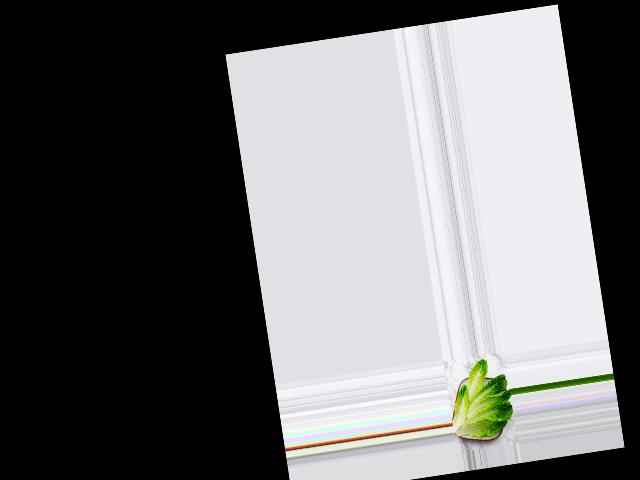lettuce: (445, 354, 518, 446)
